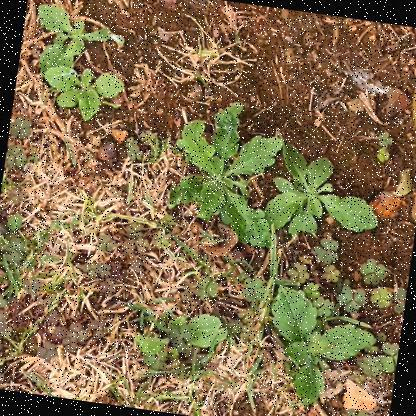Weeds: (163, 92, 292, 253), (257, 130, 390, 265), (258, 279, 378, 413), (30, 0, 128, 86), (130, 302, 233, 373), (38, 57, 128, 127)
